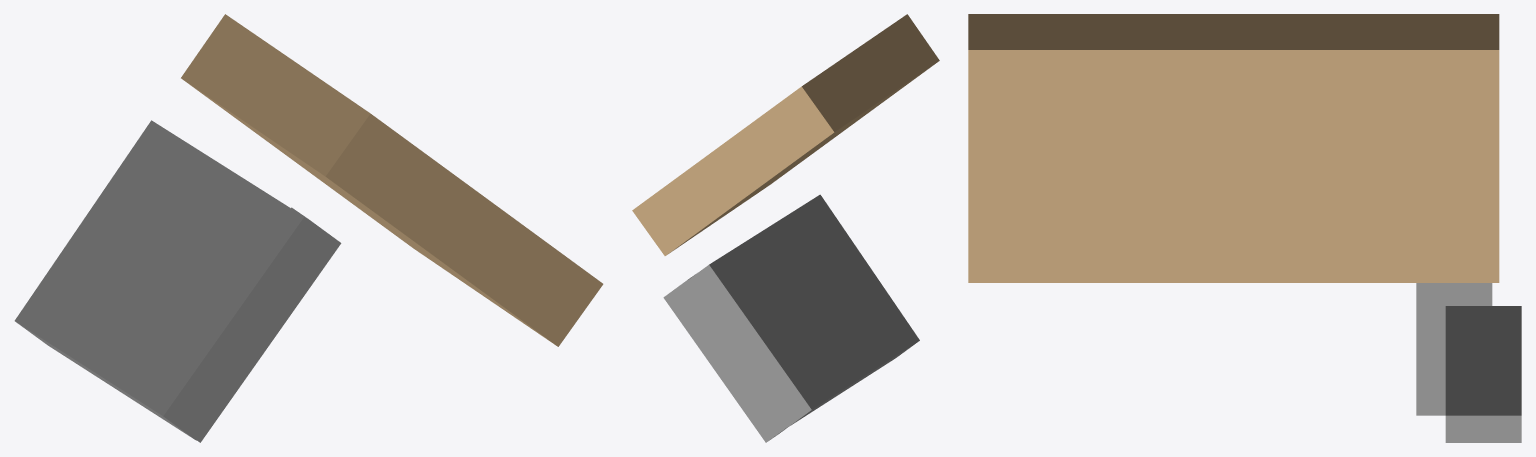
The picture shows the model from 3 angles, left to right: view 1: azimuth 30°, elevation 25°; view 2: azimuth 150°, elevation 25°; view 3: azimuth 270°, elevation 25°; orthographic projection. The views are drawn at different scales.
Parts seen in each view (by area): view 1: 0_2_3_2_2_0_2_2_0_3; view 2: 0_2_3_2_2_0_2_2_0_3; view 3: 0_2_3_2_2_0_2_2_0_3.
Boxes of the visible parts, left/top/right/bottom form: 0_2_3_2_2_0_2_2_0_3: left=14, top=14, right=603, bottom=442; 0_2_3_2_2_0_2_2_0_3: left=632, top=14, right=939, bottom=442; 0_2_3_2_2_0_2_2_0_3: left=968, top=14, right=1521, bottom=442.
Size of the model in its own units: 18.7 by 19.9 by 21.88.
